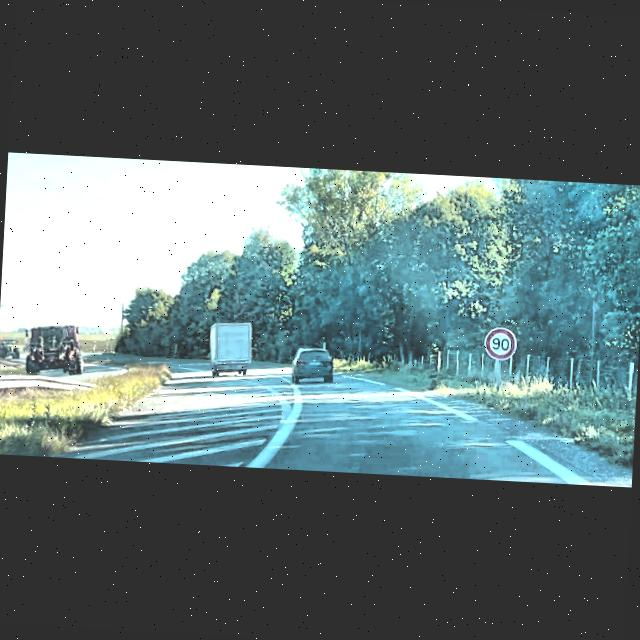speed_90: (485, 328, 517, 362)
